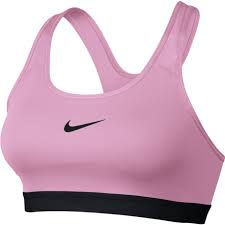nike: (60, 114, 110, 137)
